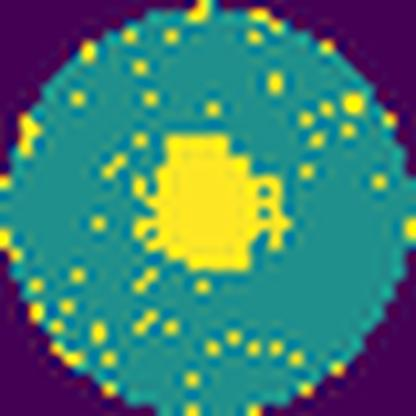Center: (134, 136, 291, 272)
